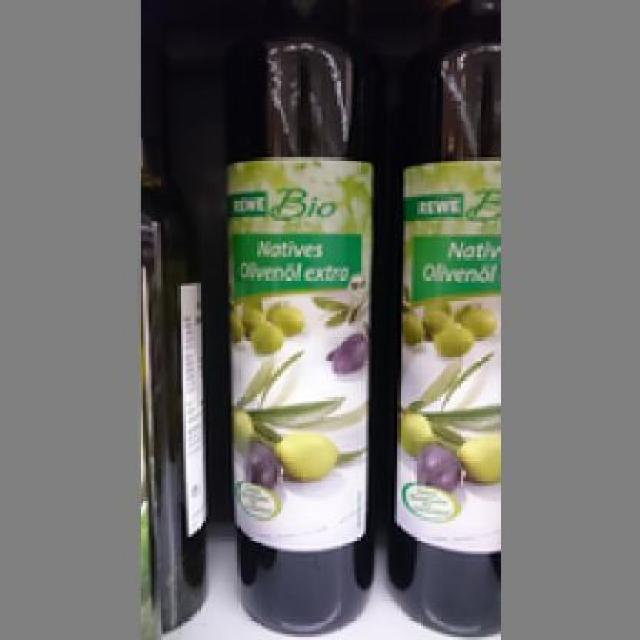Oil: (217, 6, 383, 634), (374, 0, 497, 637)
